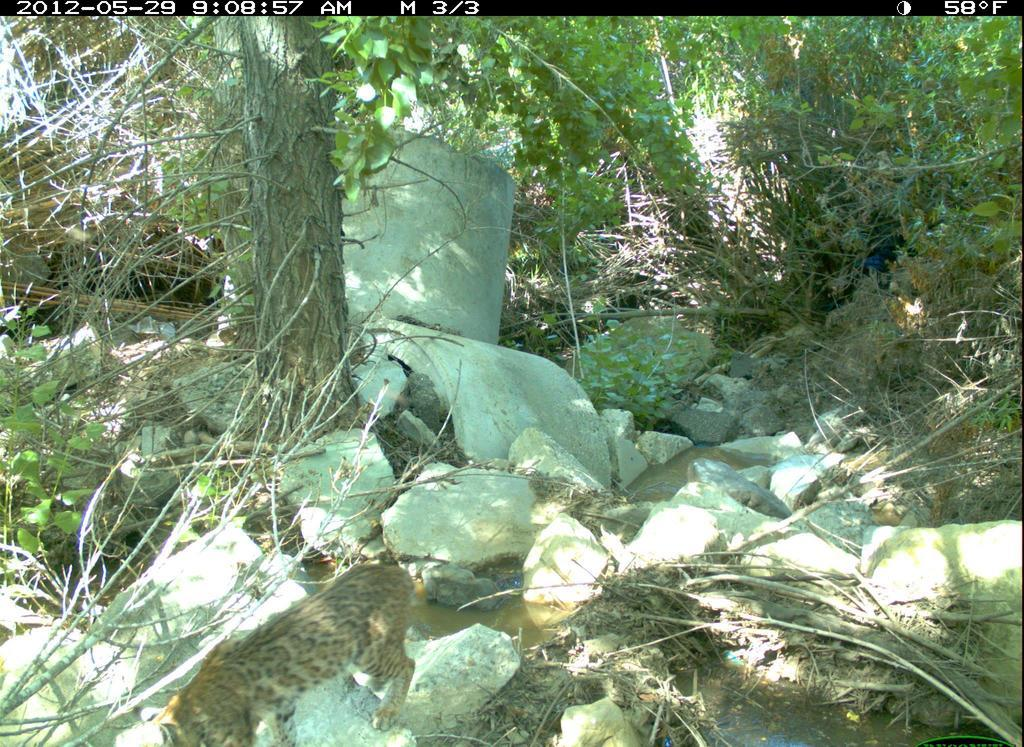bobcat: (127, 553, 437, 747)
